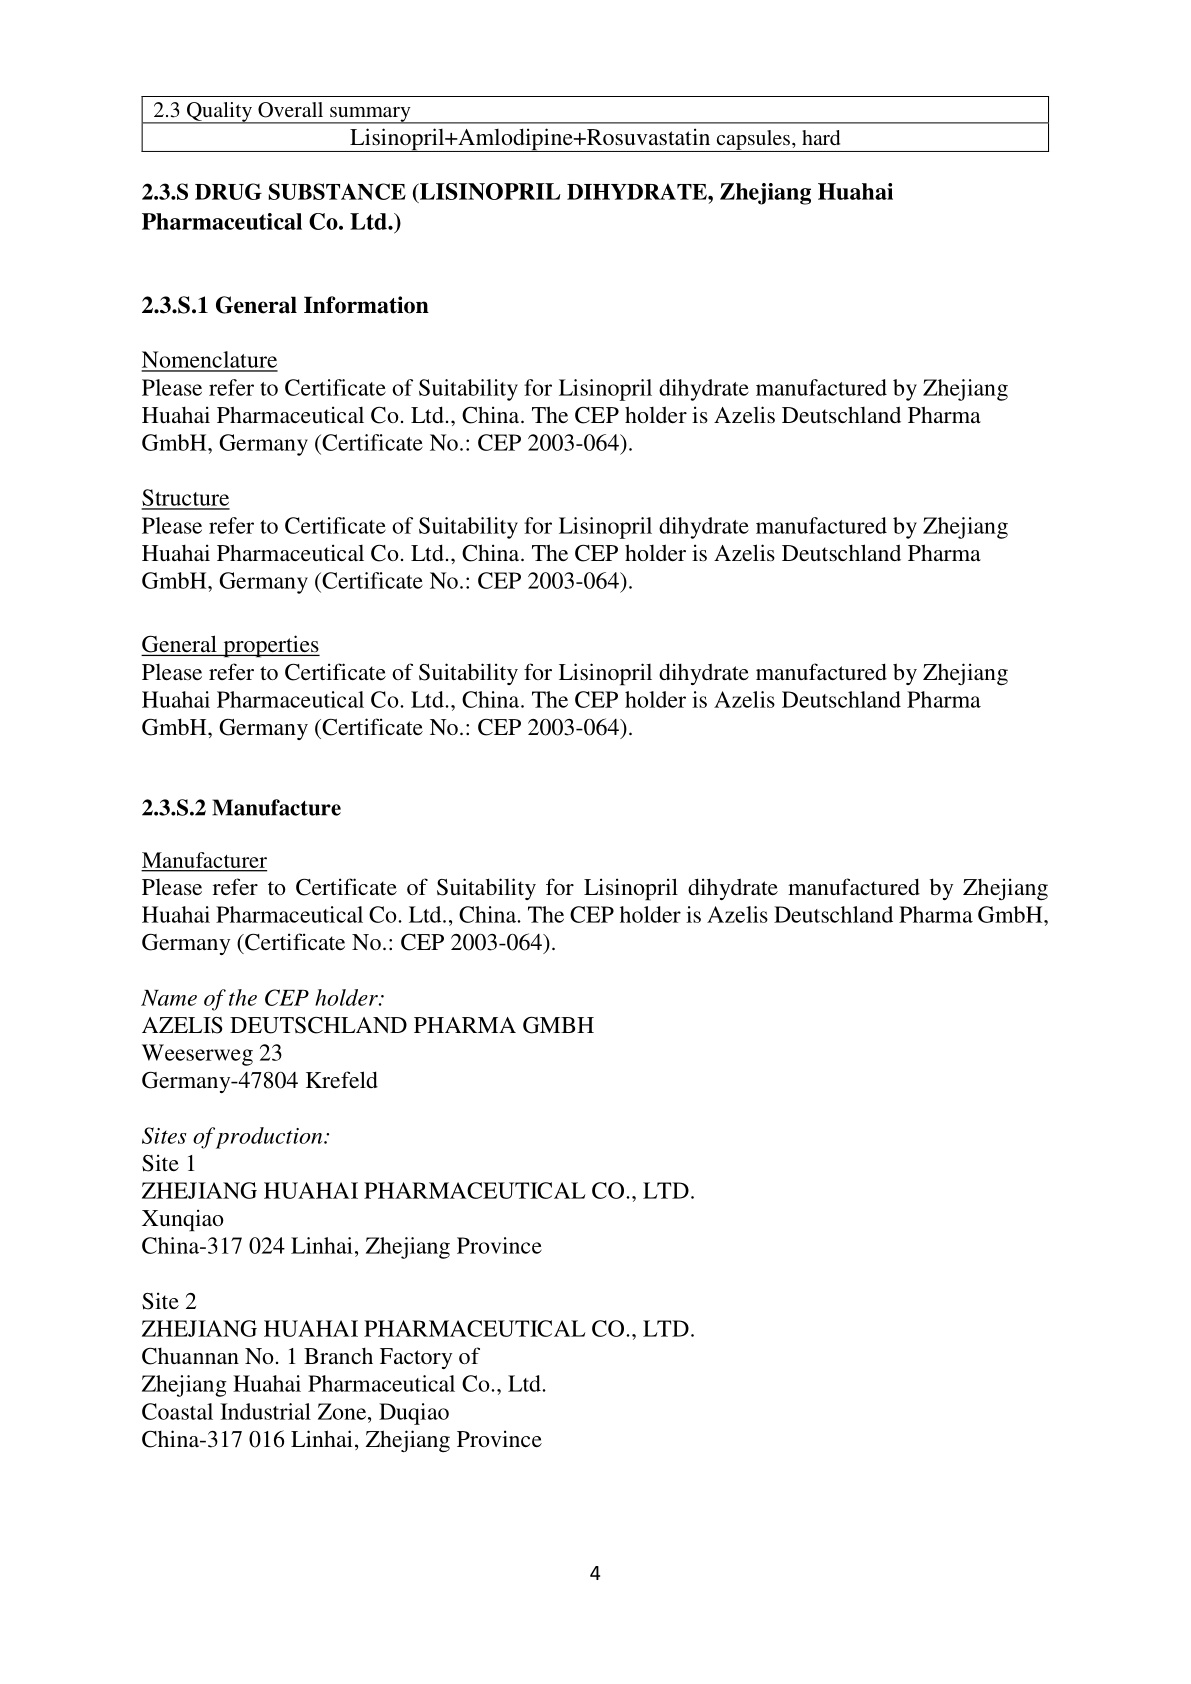full_lined: (140, 94, 1049, 153)
